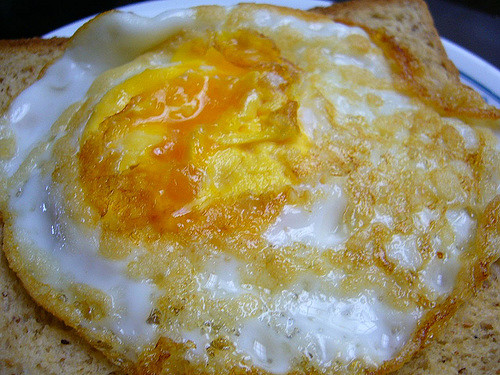fried egg: (31, 23, 464, 358)
